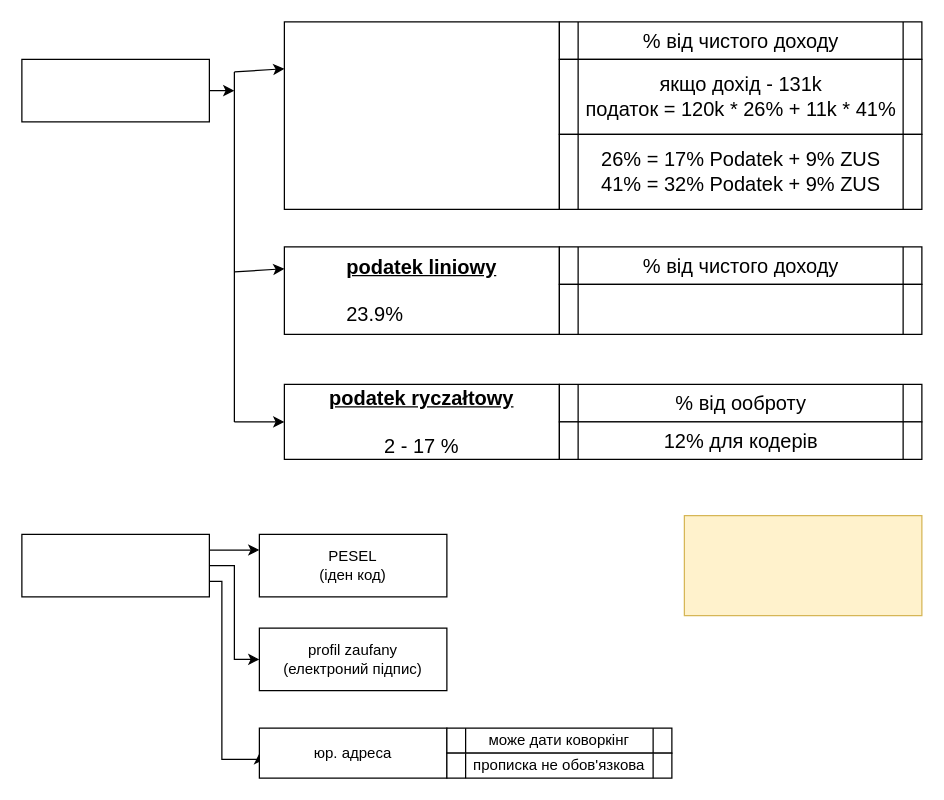
This 944x800 diagram has some shape labels left out. The centre of each missing label's shape, as x and y in pixels:
"23.9% = 19% Podatek + 4.9% ZUS" goes at (x=740, y=308).
"skala podatkowa до 120k PLN - 26% після - 41%" goes at (x=421, y=115).
"види податку ФОП" goes at (x=115, y=90).
"відкрити ФОП" goes at (x=115, y=565).
"З питань реєстраціх ФОП у Польщі пищіть у Телеграм Олексію Кравченко @lexakrav" goes at (x=802, y=565).
